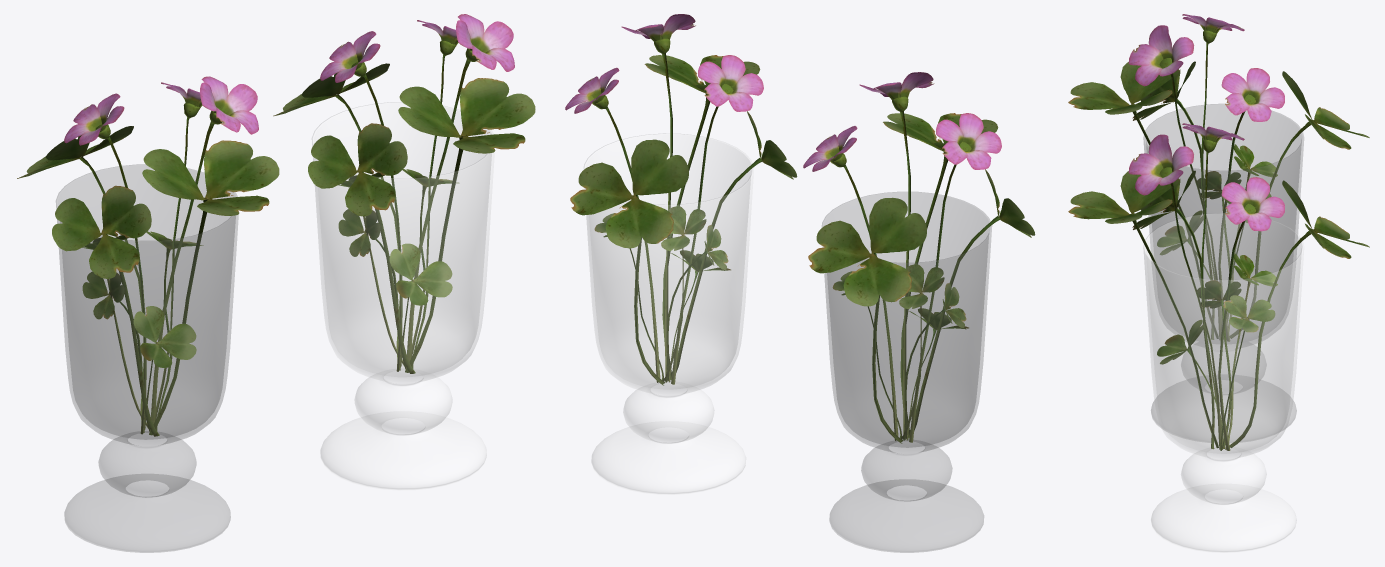
Rendered from GlassVaseFlowers-ph.glb.
The picture shows the model from 3 angles, left to right: view 1: azimuth 30°, elevation 25°; view 2: azimuth 150°, elevation 25°; view 3: azimuth 270°, elevation 25°; orthographic projection. The views are drawn at different scales.
Visible parts, largest first — view 1: GlassAlpha, GlassTransmission, Flowers2, Flowers1; view 2: GlassAlpha, GlassTransmission, Flowers2, Flowers1; view 3: GlassTransmission, GlassAlpha, Flowers2, Flowers1.
Part boxes in pixels (box(x1,y1,x2,y2)): GlassAlpha: box(56, 164, 238, 552); GlassTransmission: box(312, 102, 494, 490); Flowers2: box(273, 14, 535, 373); Flowers1: box(17, 76, 279, 436); GlassAlpha: box(822, 192, 991, 552); GlassTransmission: box(584, 133, 753, 494); Flowers2: box(565, 14, 797, 385); Flowers1: box(803, 72, 1035, 443); GlassTransmission: box(1143, 213, 1303, 552); GlassAlpha: box(1143, 104, 1303, 442); Flowers2: box(1068, 123, 1369, 450); Flowers1: box(1068, 14, 1369, 341).
Bounding box in the file's own units: 0.2173 × 0.2032 × 0.1425.
Materials: 3 (1 with a texture image).
